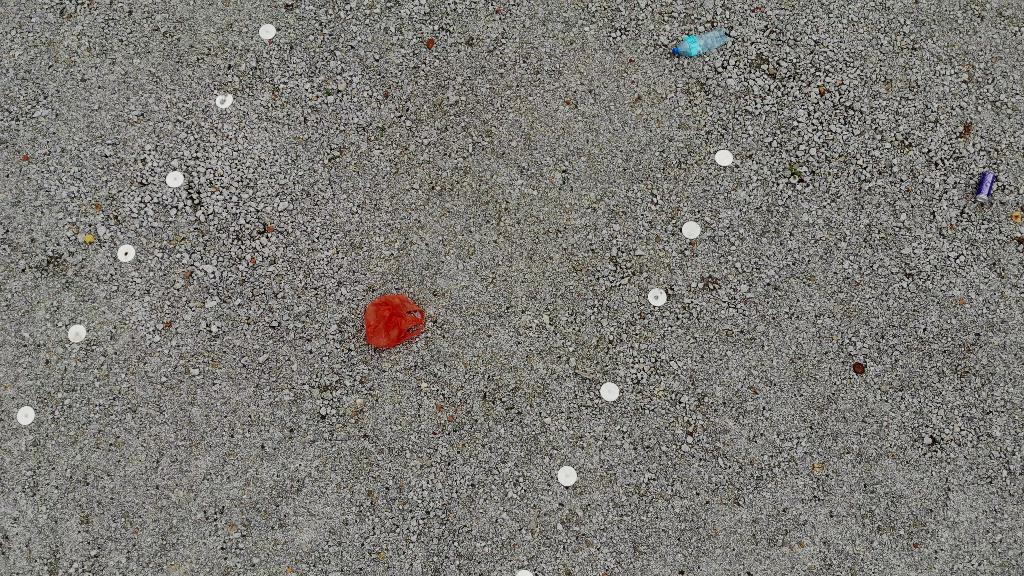garbage: (363, 291, 432, 349)
